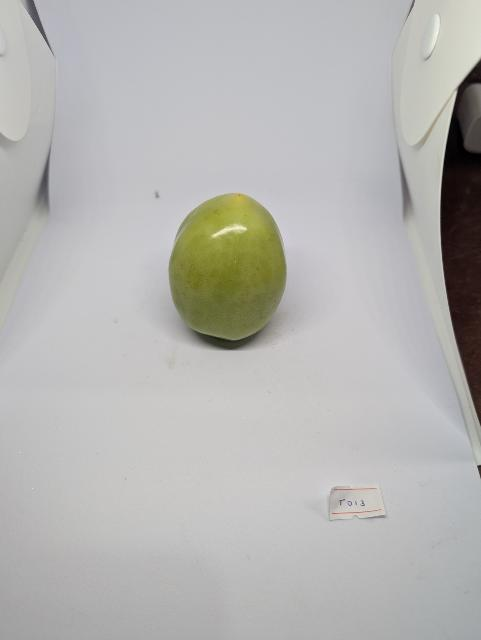green: (164, 193, 293, 345)
